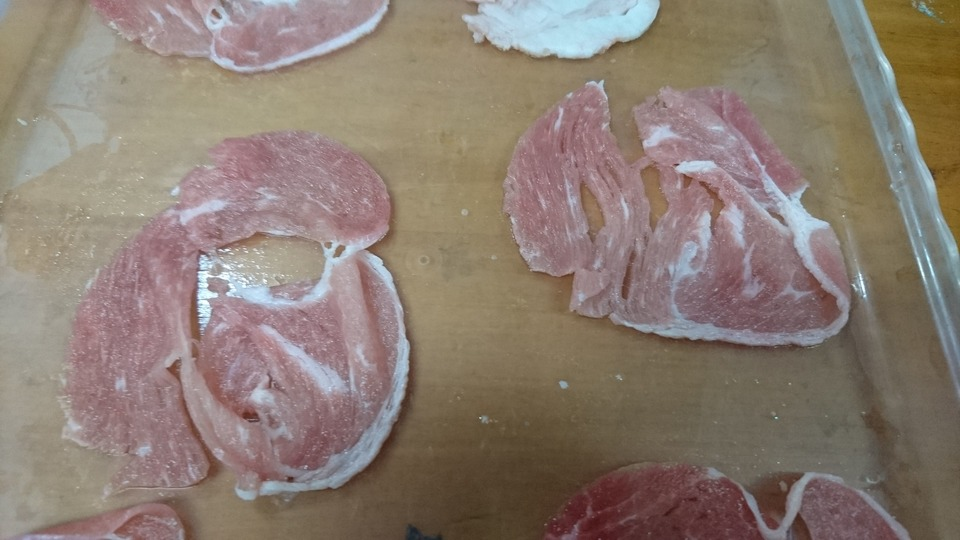restructured meat: (56, 142, 433, 489), (492, 74, 867, 347), (535, 450, 906, 539), (89, 4, 396, 78), (467, 4, 676, 70)
